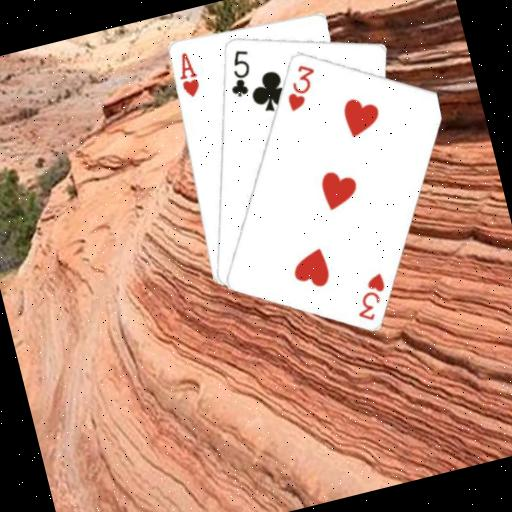3H: (346, 268, 394, 325), (277, 58, 325, 114)
5C: (218, 45, 259, 101)
AH: (171, 47, 204, 101)
